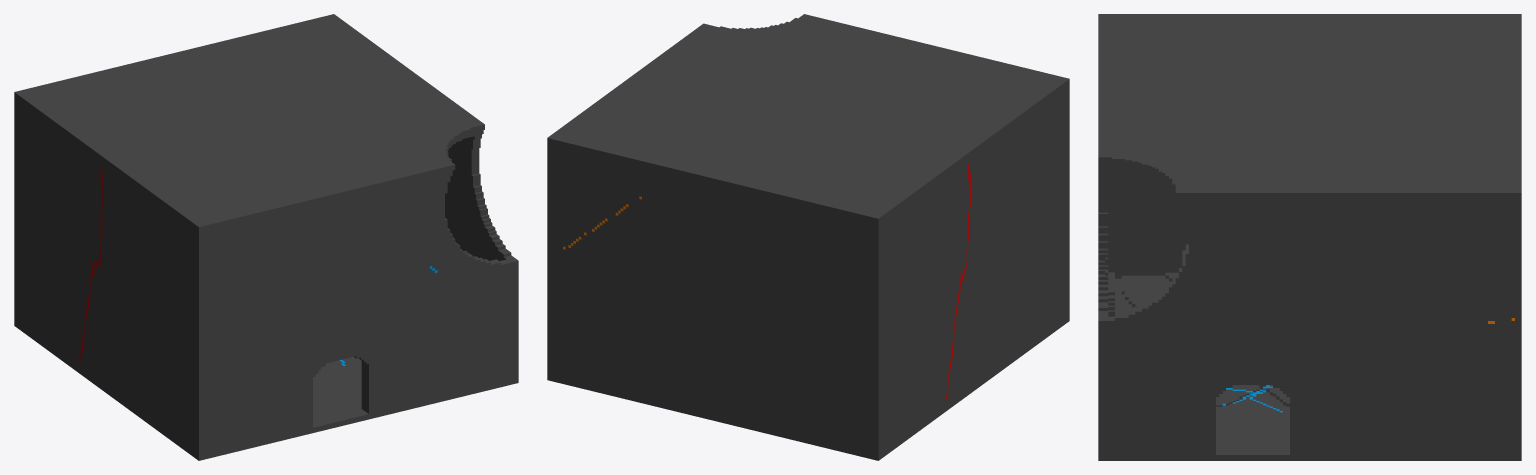
The model's file is FireRateRoom.obj.
3 views of the same model, side by side, from view 1: azimuth 30°, elevation 25°; view 2: azimuth 150°, elevation 25°; view 3: azimuth 270°, elevation 25° (orthographic). The views are drawn at different scales.
Bounding box in the file's own units: 126 × 88 × 126.
Materials: 1 (1 with a texture image).
